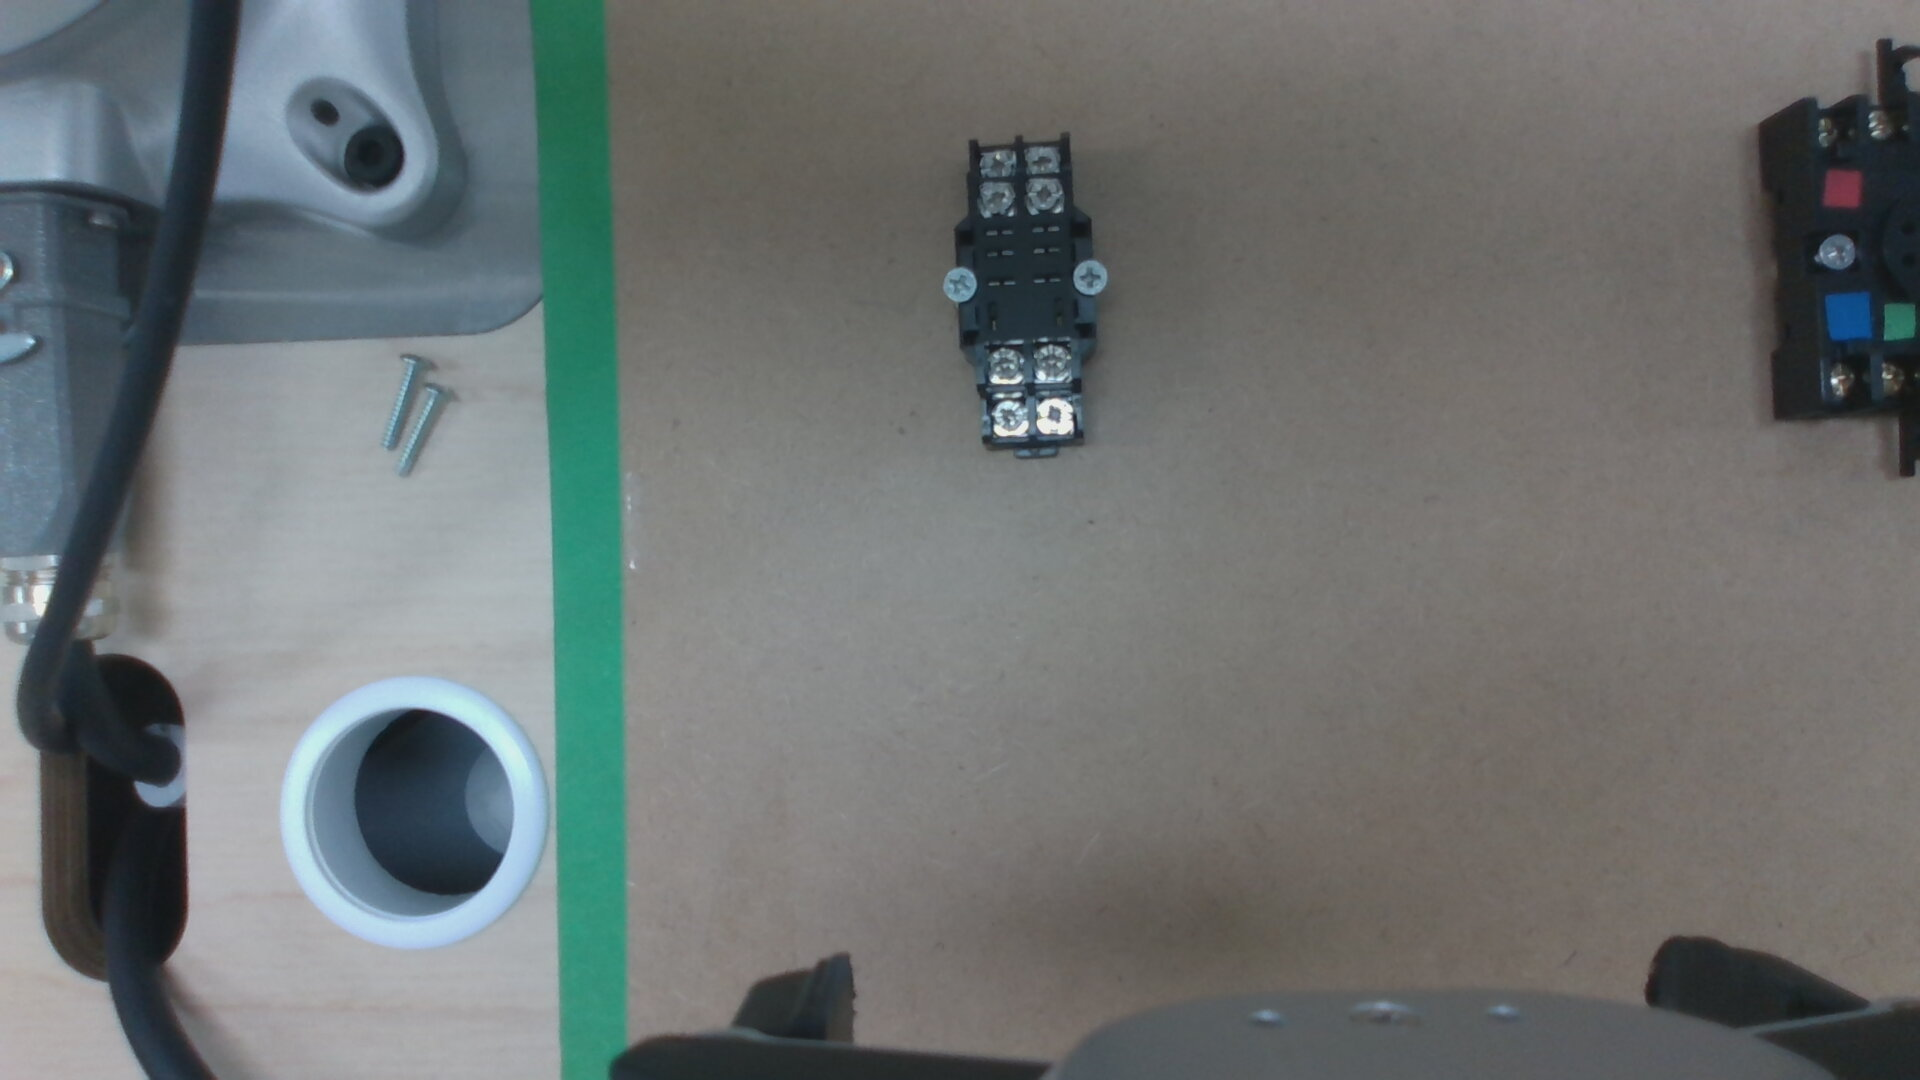relay 3: (1026, 148, 1058, 171)
relay 4: (978, 150, 1015, 175)
relay 5: (1038, 397, 1072, 431)
relay 6: (990, 397, 1026, 433)
relay 7: (1033, 344, 1068, 378)
relay 8: (989, 348, 1022, 378)
